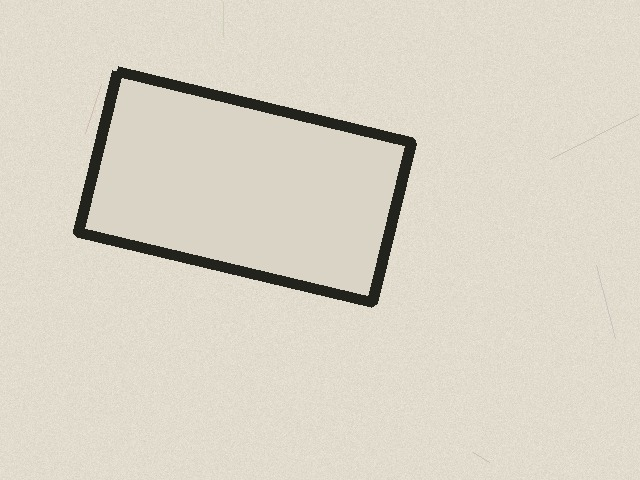parking_area: (78, 71, 411, 302)
